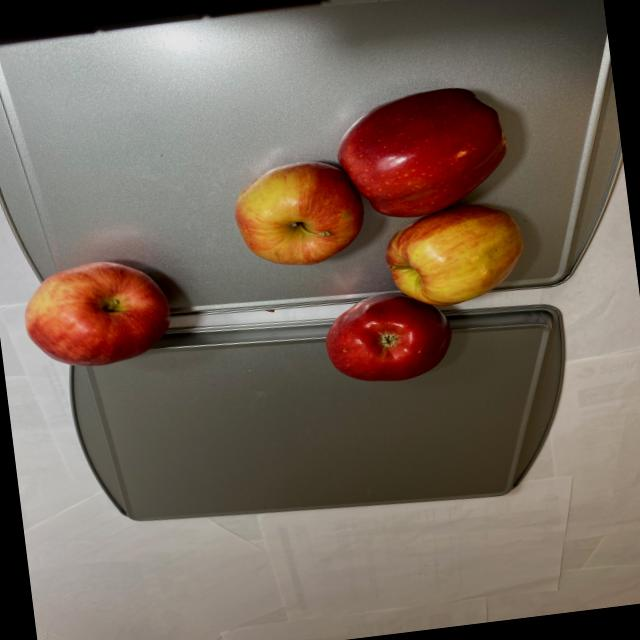apple: (219, 82, 544, 398), (19, 250, 183, 374)
